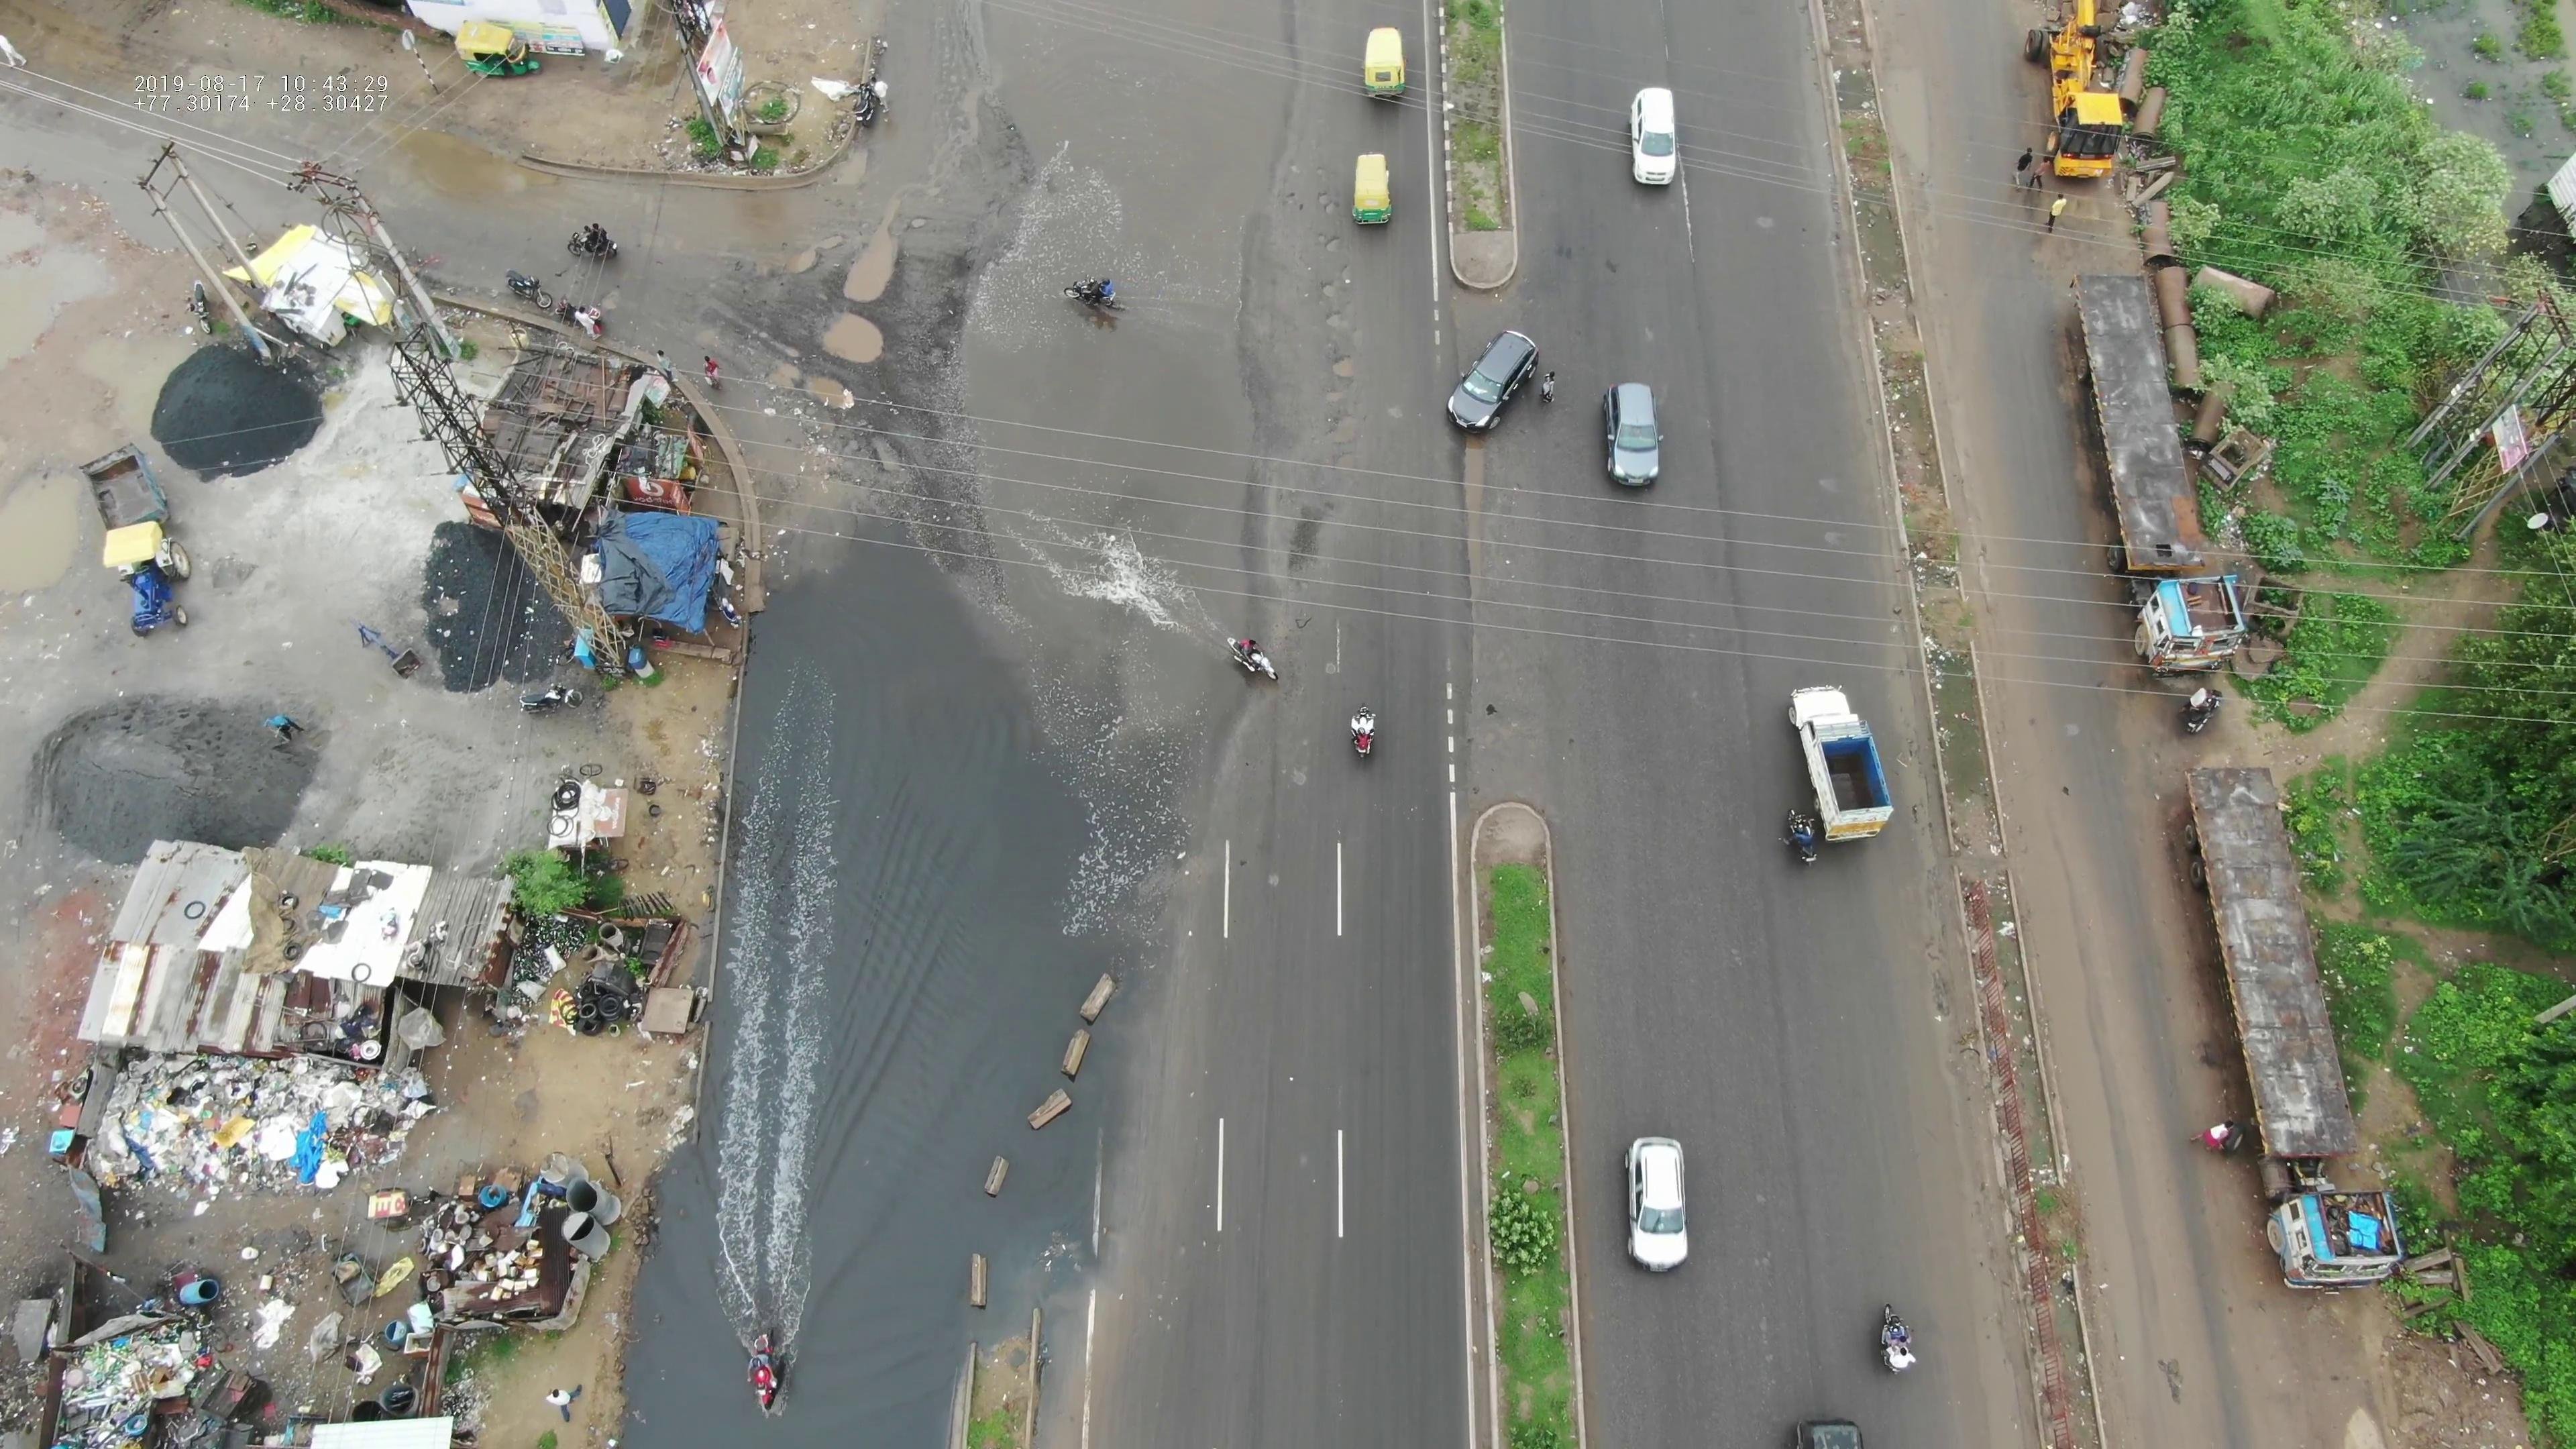Muddy_road: (2019, 876, 2150, 1143), (2088, 1152, 2204, 1449), (1916, 283, 2005, 536)
Potholes: (761, 173, 909, 396), (1283, 150, 1376, 464), (1737, 212, 1801, 264)
Waterlogging: (614, 679, 1108, 1415), (922, 96, 1272, 709)
